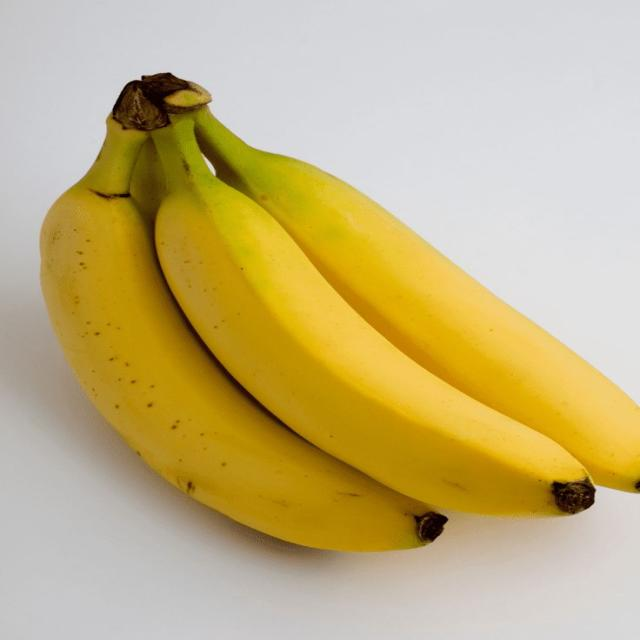unpeal banana: (41, 87, 446, 551), (153, 115, 593, 515), (197, 108, 639, 491)
